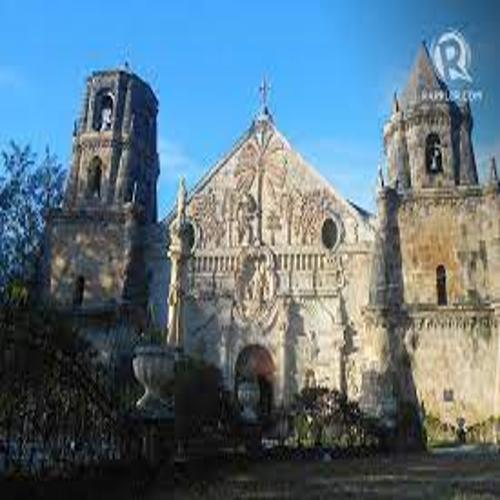Miagao Church: (32, 38, 500, 462)
